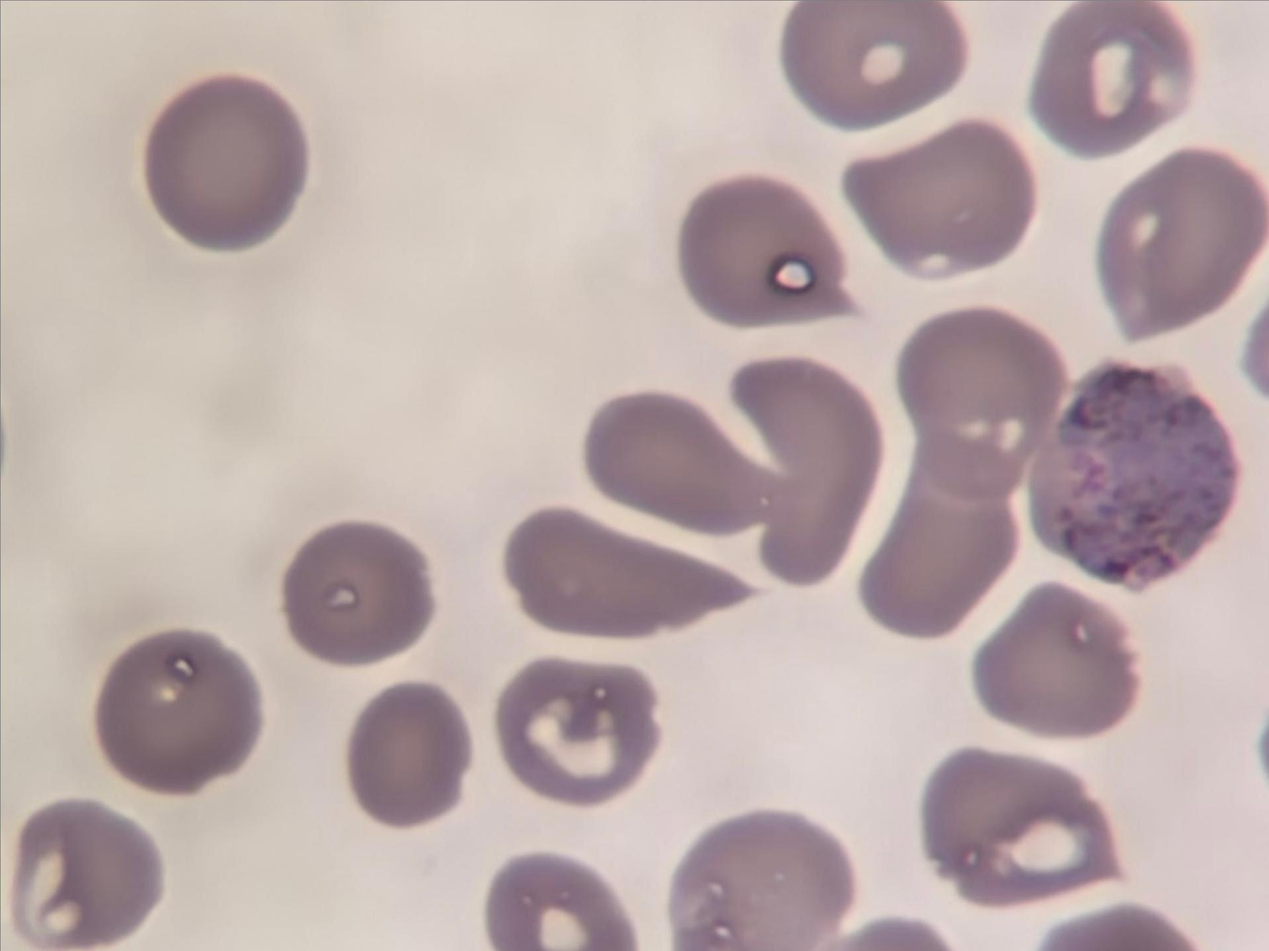Infected: (33, 362, 243, 588)
Uninfected: (506, 311, 765, 444), (0, 607, 169, 802), (388, 369, 537, 590), (205, 450, 373, 644), (145, 47, 346, 201), (231, 669, 424, 825), (478, 412, 682, 559), (960, 698, 1122, 872), (254, 313, 411, 492), (411, 622, 588, 776), (1005, 156, 1169, 320), (411, 0, 600, 139), (127, 213, 296, 365), (76, 797, 238, 951), (302, 821, 488, 951), (1104, 0, 1254, 150), (833, 286, 983, 430), (796, 124, 919, 270), (631, 0, 785, 101)
